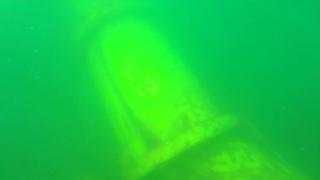pipe: (67, 1, 235, 180), (142, 133, 310, 180)
